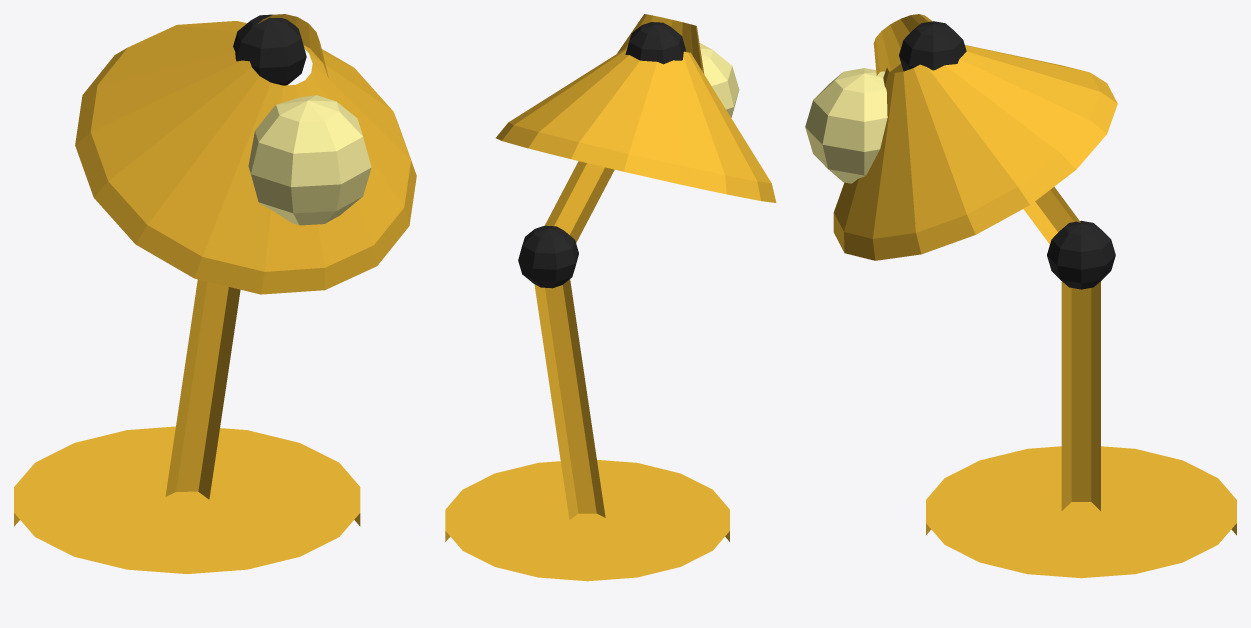
Rendered from skrivbordslampa.glb.
The picture shows the model from 3 angles, left to right: view 1: azimuth 30°, elevation 25°; view 2: azimuth 150°, elevation 25°; view 3: azimuth 270°, elevation 25°; orthographic projection. The views are drawn at different scales.
Parts seen in each view (by area): view 1: skrivbordslampa; view 2: skrivbordslampa; view 3: skrivbordslampa.
Part boxes in pixels (x1,y1,x2,y2): skrivbordslampa: (14, 14, 416, 573); skrivbordslampa: (445, 14, 776, 581); skrivbordslampa: (805, 14, 1236, 578).
Bounding box in the file's own units: 0.32 × 0.5905 × 0.4376.
